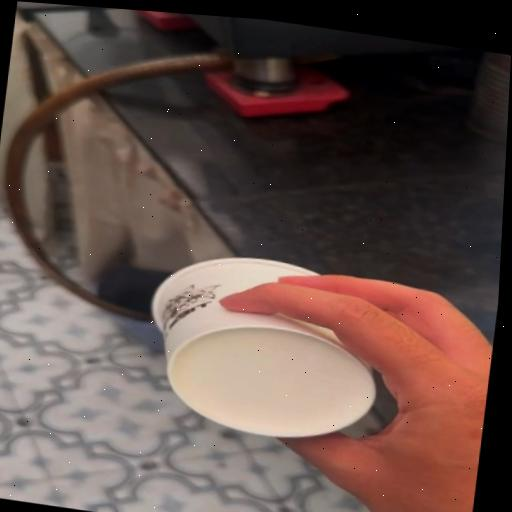Ly_giay: (153, 258, 376, 437)
